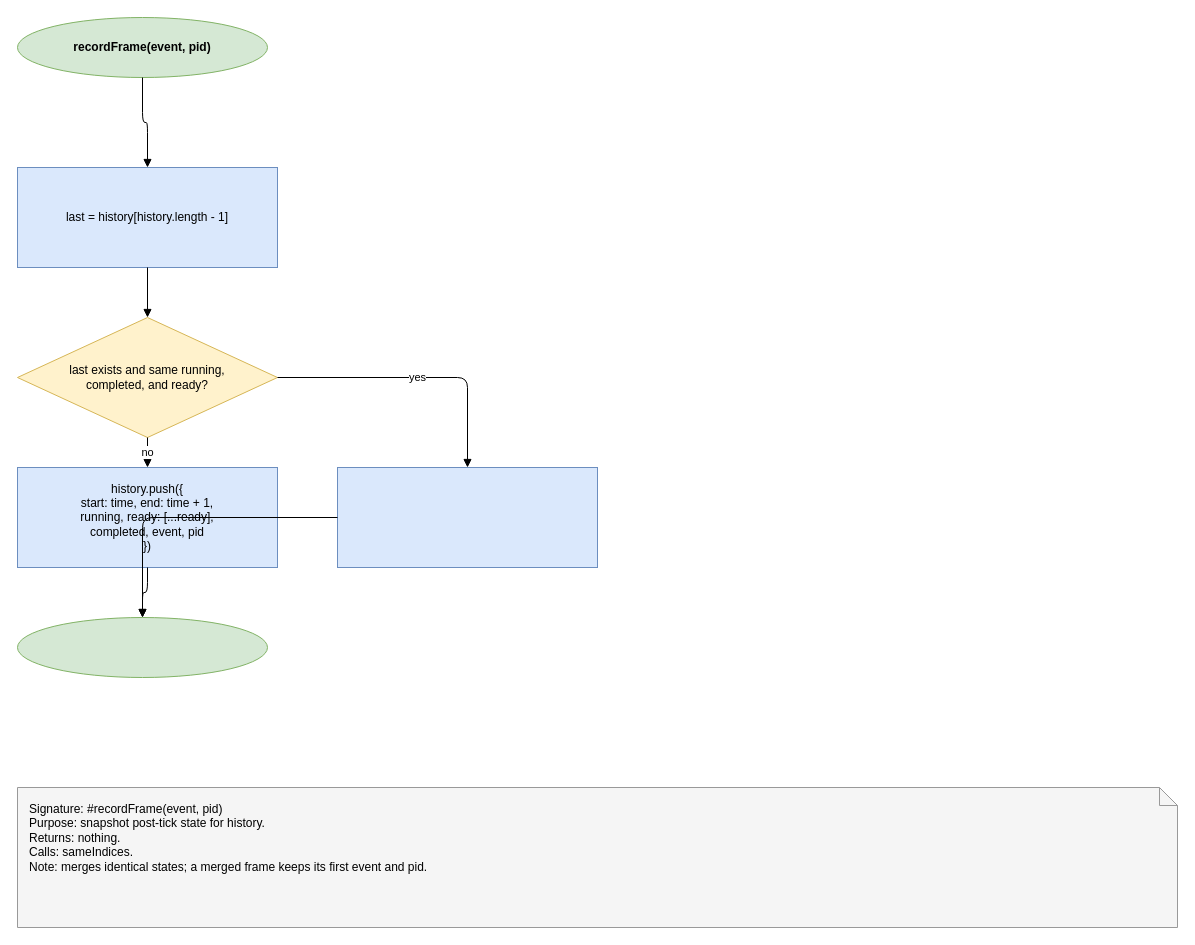
Image size: 1195x945. Some labels were removed from this diagram. The shapes that lost their labels are listed below. From the top down, each one's box as (x1, y1, x2, y2) in pixels, then its label:
(336, 466, 598, 568): last.end = time + 1
(16, 616, 268, 678): return
